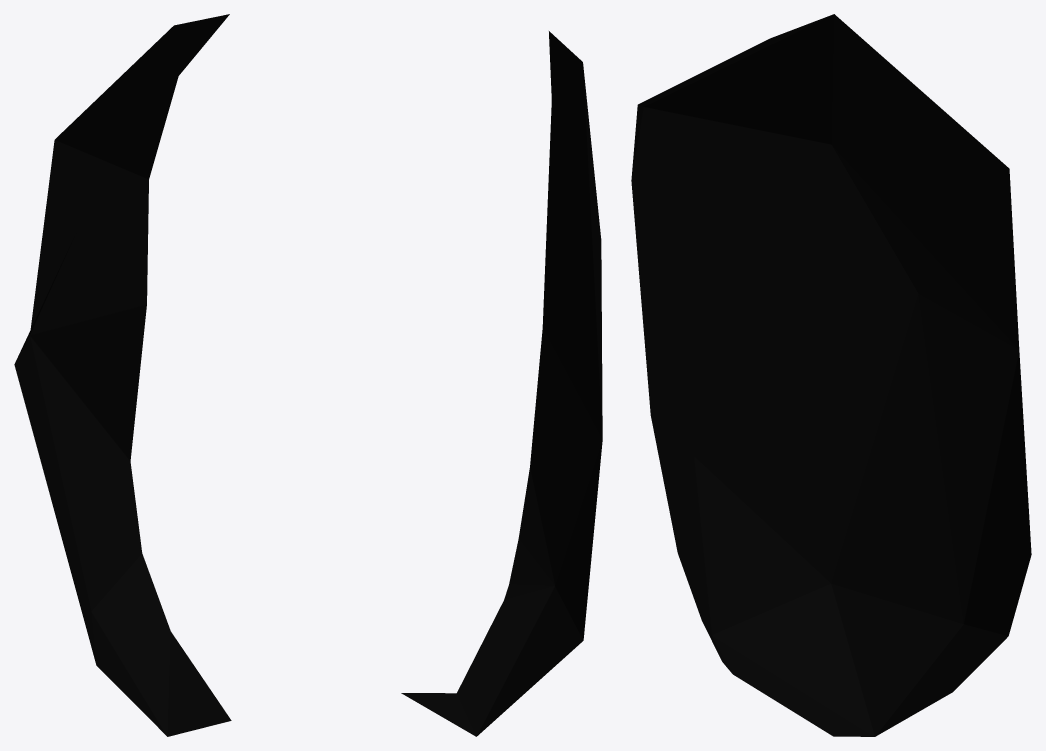
3 views of the same model, side by side, from view 1: azimuth 30°, elevation 25°; view 2: azimuth 150°, elevation 25°; view 3: azimuth 270°, elevation 25° (orthographic). The views are drawn at different scales.
Size of the model in its own units: 0.1752 by 0.7062 by 0.3562.
1 material, 1 textured.
